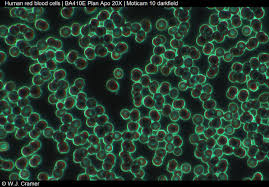Malaria: (105, 79, 119, 92), (251, 18, 264, 32), (172, 98, 187, 110), (9, 45, 21, 59), (146, 63, 158, 76), (113, 65, 124, 79), (195, 35, 209, 46), (130, 67, 142, 79), (143, 96, 155, 108), (167, 123, 180, 134), (22, 144, 33, 157), (257, 31, 268, 44), (227, 86, 238, 99), (30, 155, 41, 167), (238, 89, 248, 102), (120, 108, 131, 119), (75, 78, 85, 89), (157, 19, 166, 31), (54, 70, 66, 79), (237, 39, 246, 51), (224, 51, 233, 63), (132, 22, 141, 34), (216, 46, 225, 56)
